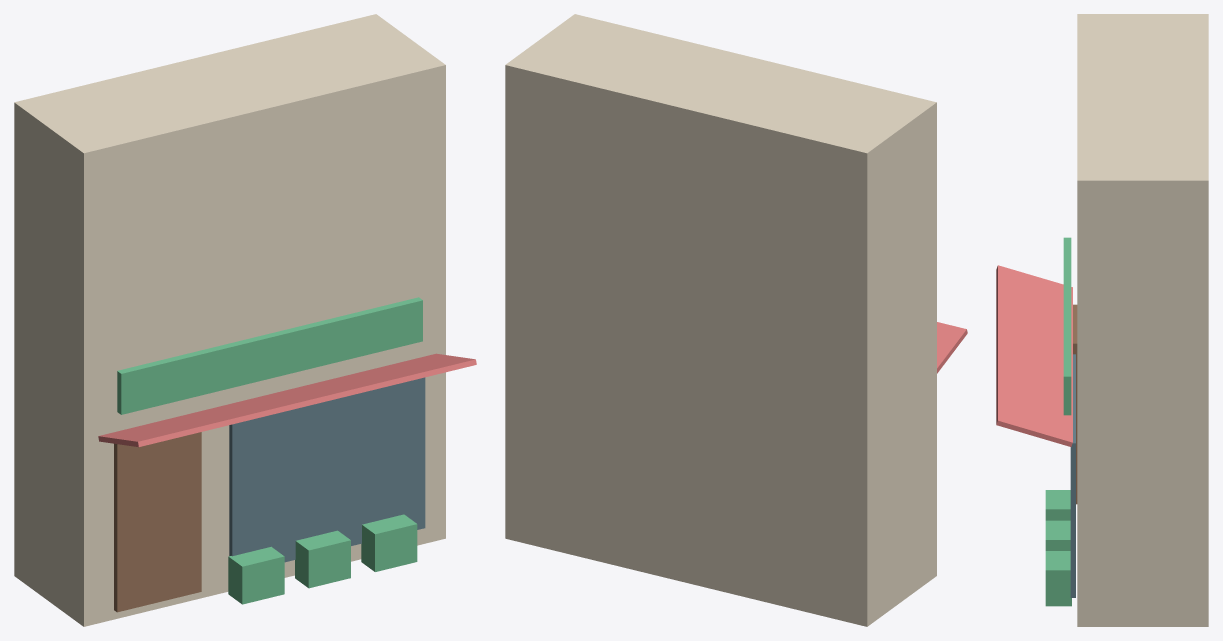
File: SM_Fachada_Floreria_Destino.fbx
3 renders of one model, left to right at view 1: azimuth 30°, elevation 25°; view 2: azimuth 150°, elevation 25°; view 3: azimuth 270°, elevation 25°, orthographic. The views are drawn at different scales.
Visible parts, largest first — view 1: SM_Fachada_Floreria_Destino; view 2: SM_Fachada_Floreria_Destino; view 3: SM_Fachada_Floreria_Destino.
Part boxes in pixels (x1,y1,x2,y2): SM_Fachada_Floreria_Destino: [14, 14, 476, 626]; SM_Fachada_Floreria_Destino: [505, 14, 967, 626]; SM_Fachada_Floreria_Destino: [996, 14, 1208, 626].
Bounding box in the file's own units: 6 × 7.5 × 3.23.
